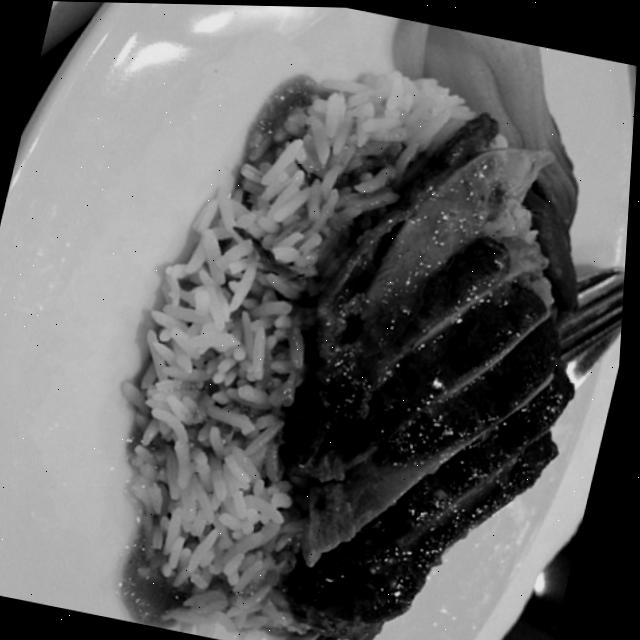米饭主食: (5, 1, 640, 640)
